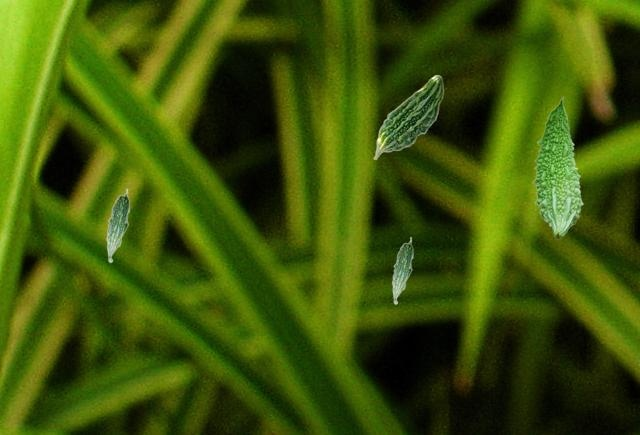ampalaya: (531, 96, 584, 239), (373, 74, 444, 160), (106, 188, 130, 263), (391, 236, 413, 305)
